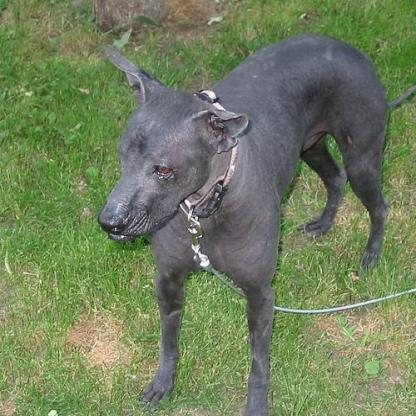Mexican_hairless: (99, 31, 390, 414)
